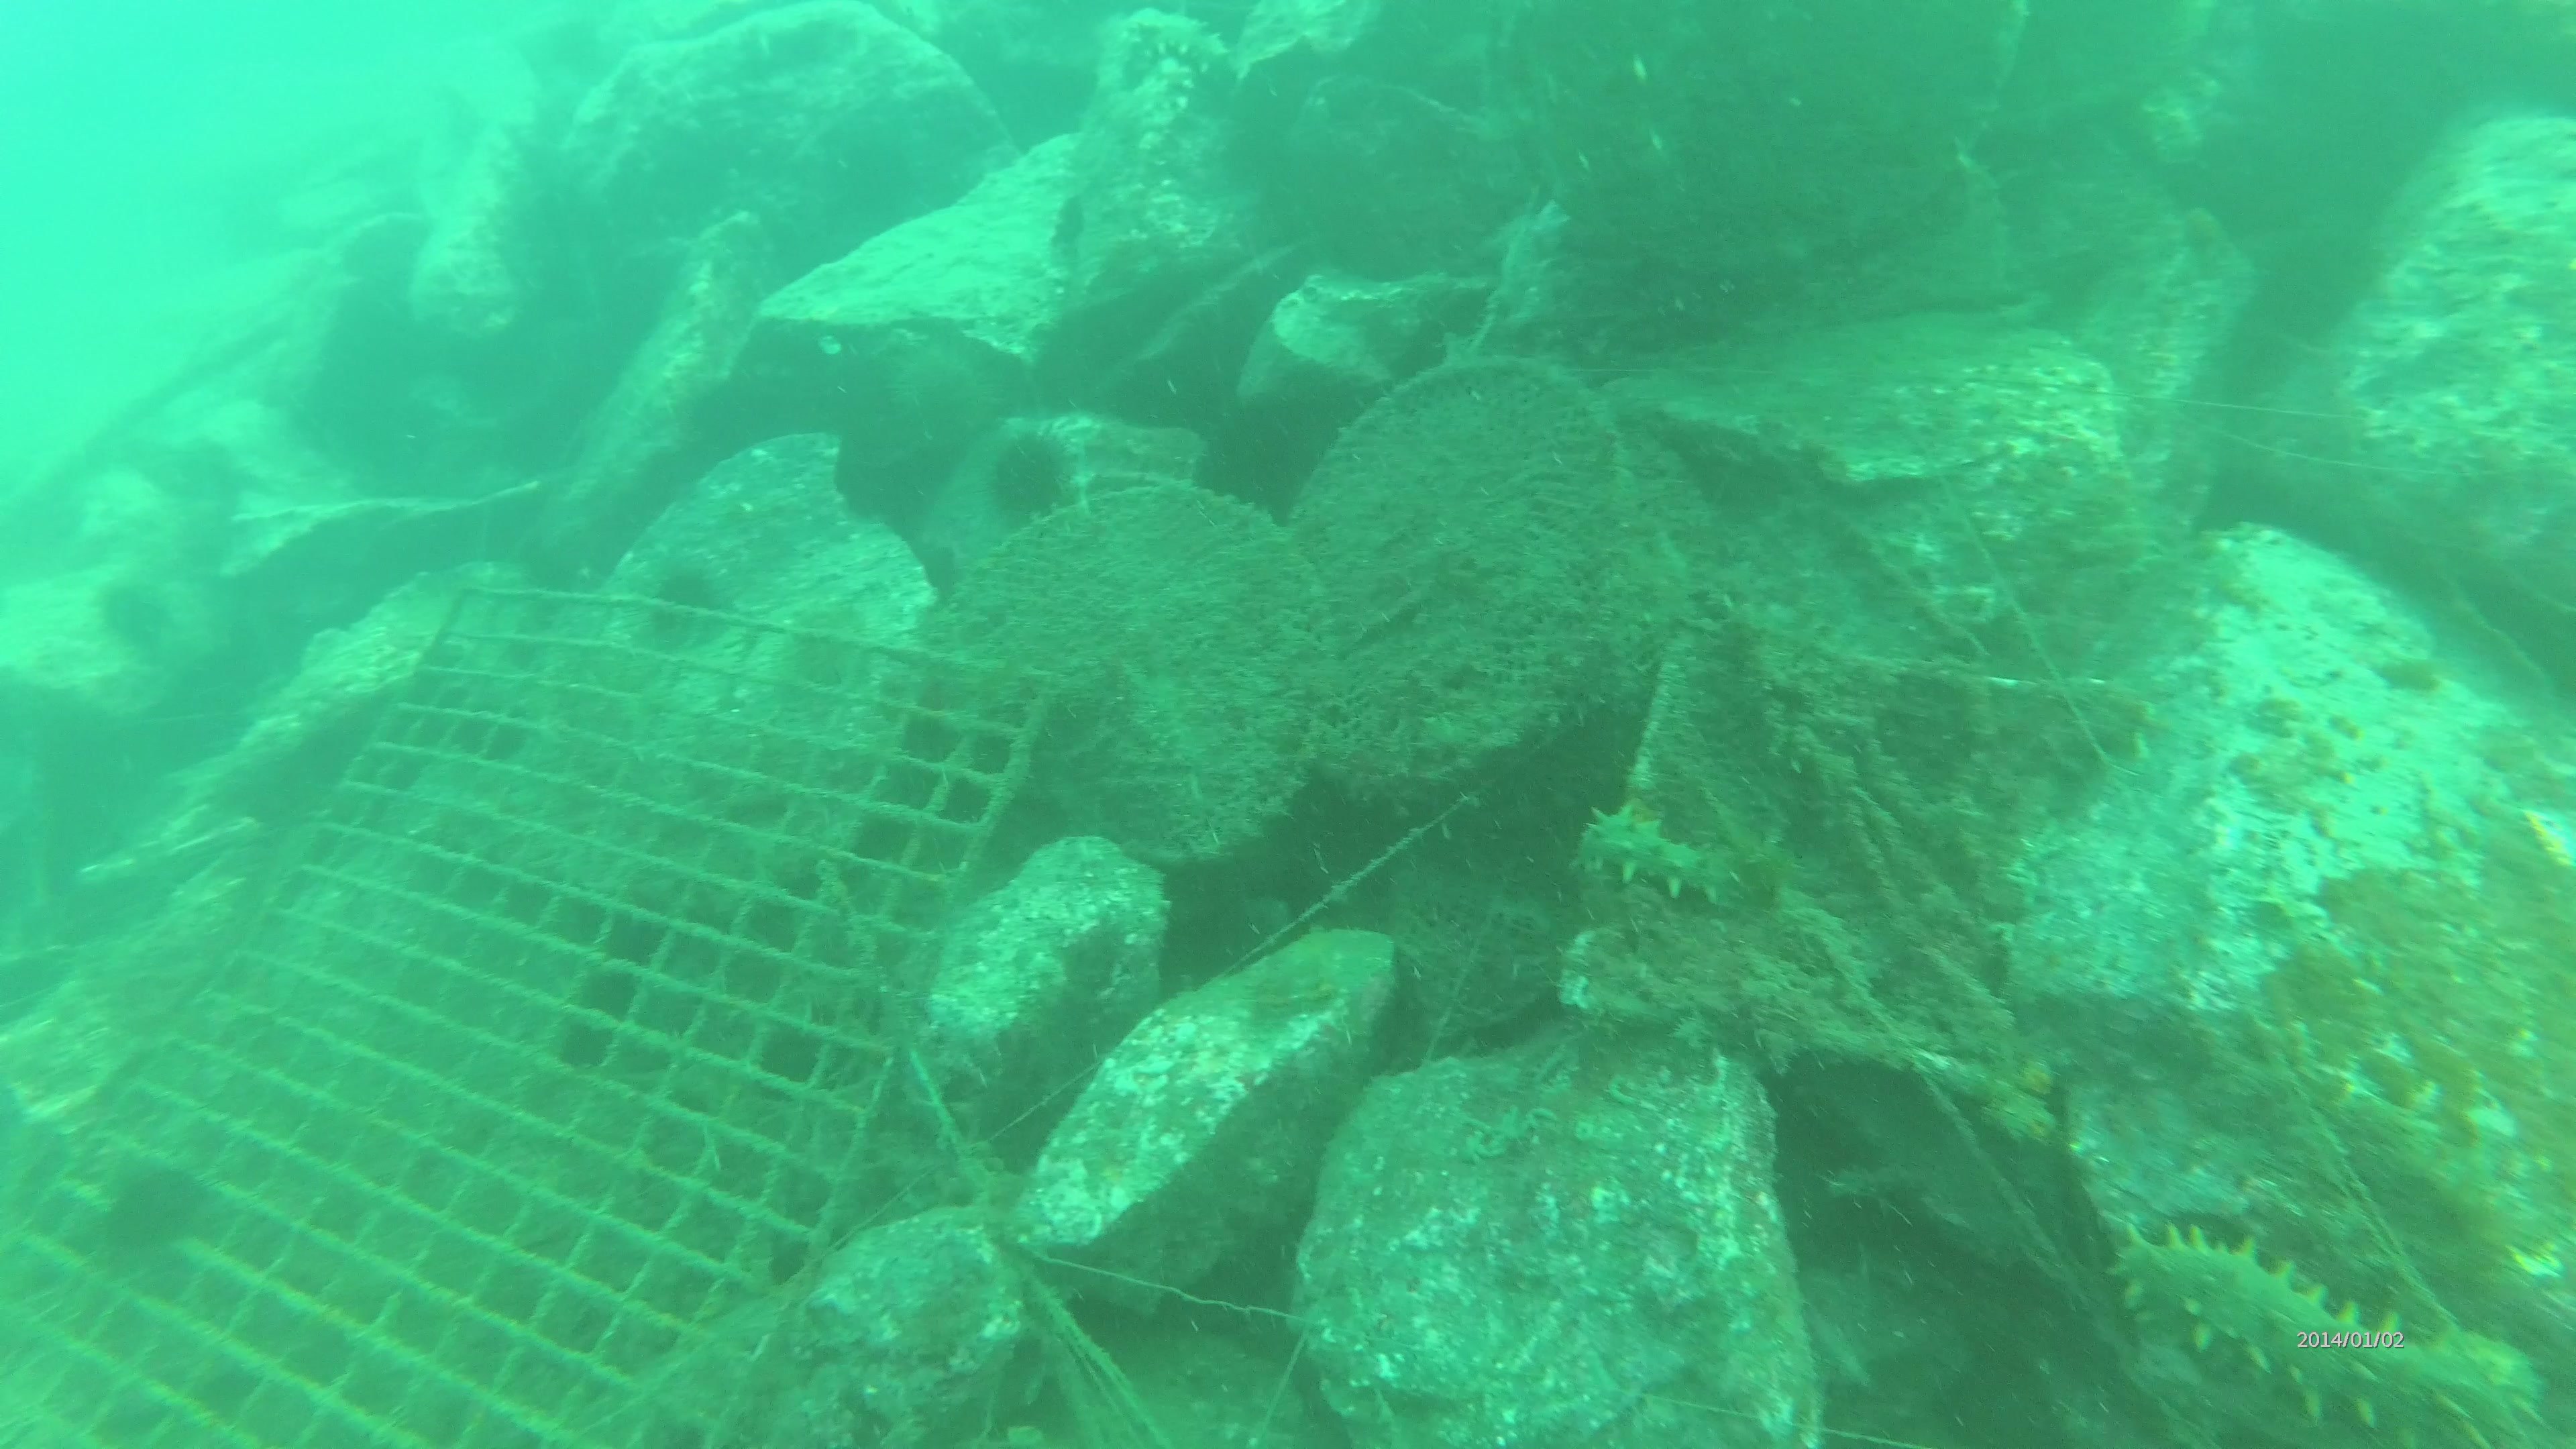echinus: (876, 324, 1012, 453), (88, 1155, 211, 1277), (975, 428, 1076, 536), (625, 557, 732, 646), (87, 570, 180, 665)
holothurian: (2111, 1215, 2551, 1449), (1079, 14, 1249, 138), (1585, 789, 1737, 911)
